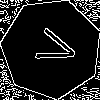V: (26, 24, 80, 71)
